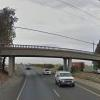Bridge: (2, 30, 98, 69)
